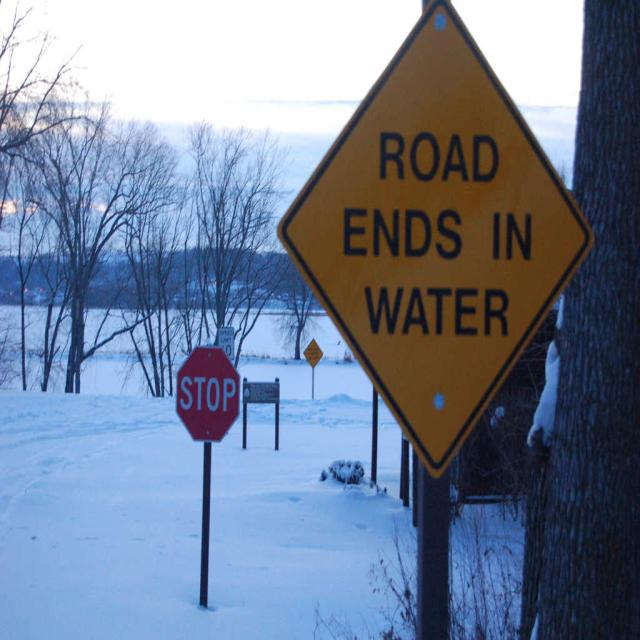Stop-sign: (176, 344, 241, 447)
